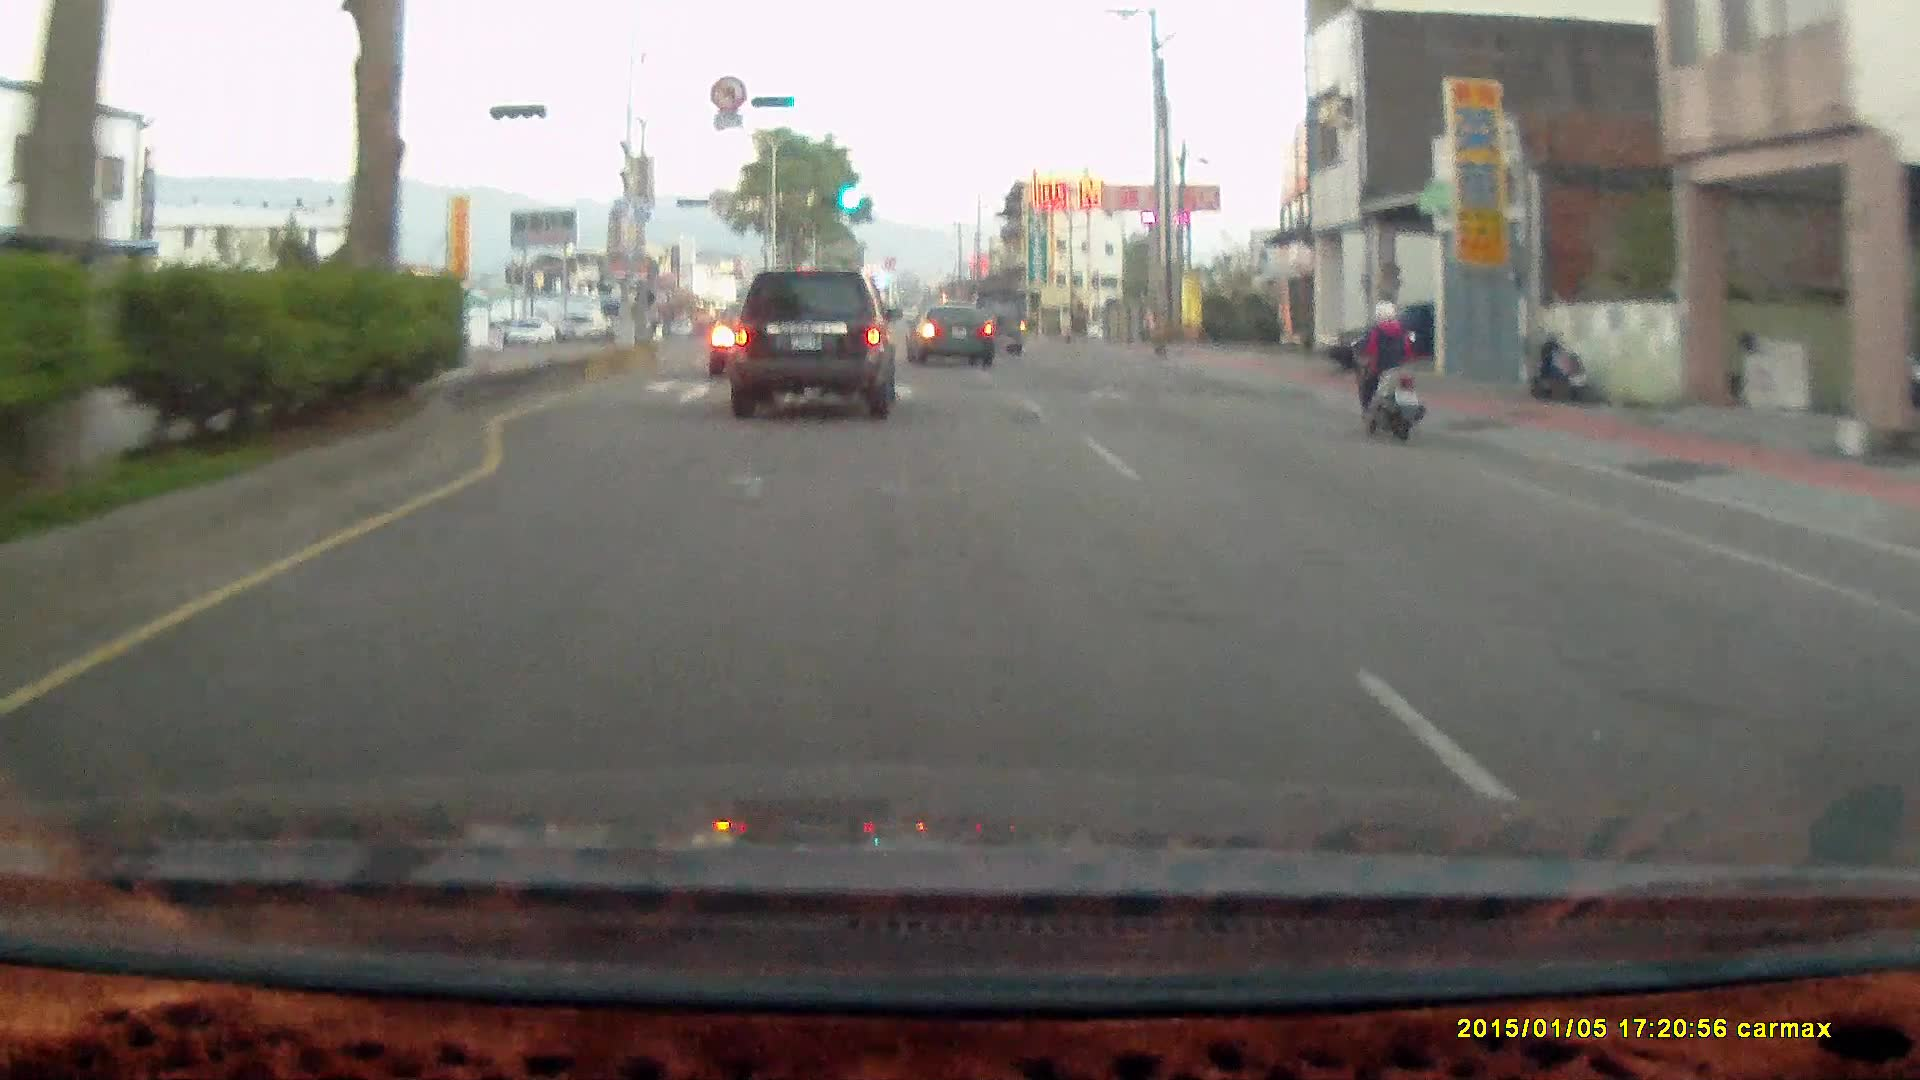rider: (1334, 288, 1437, 451), (1350, 296, 1425, 440)
vehicle: (722, 261, 896, 421), (726, 267, 899, 417), (1314, 296, 1502, 366), (1330, 289, 1445, 366), (908, 302, 999, 367), (907, 302, 994, 366), (962, 289, 1024, 355), (967, 290, 1027, 358), (557, 311, 606, 341), (505, 316, 556, 344)
